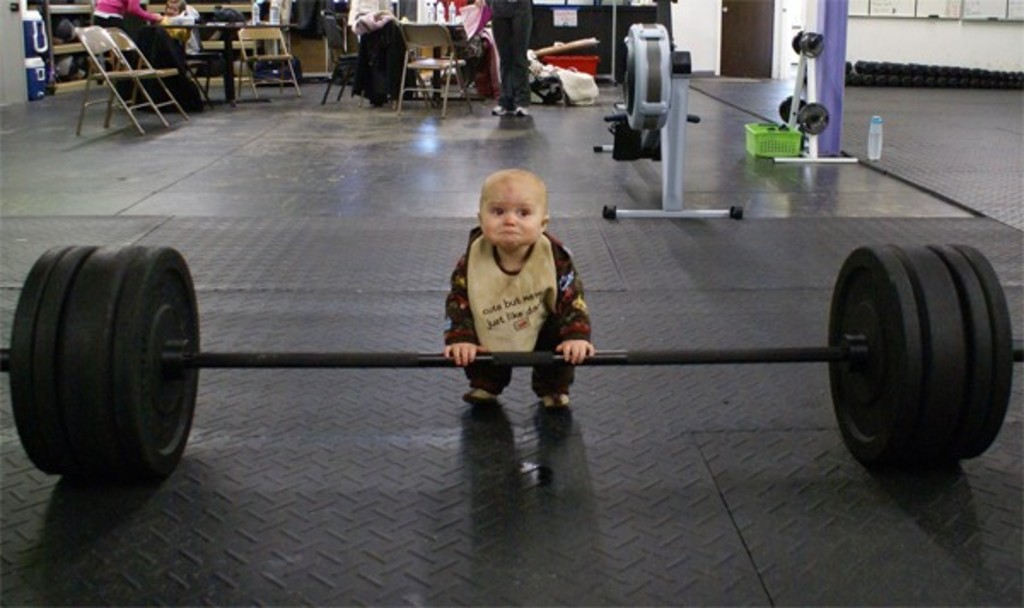person: (437, 166, 599, 409)
